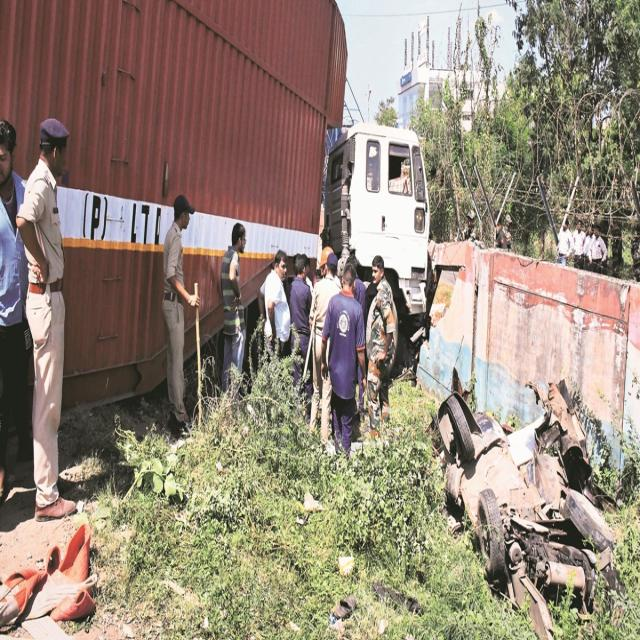truck: (0, 0, 430, 405)
